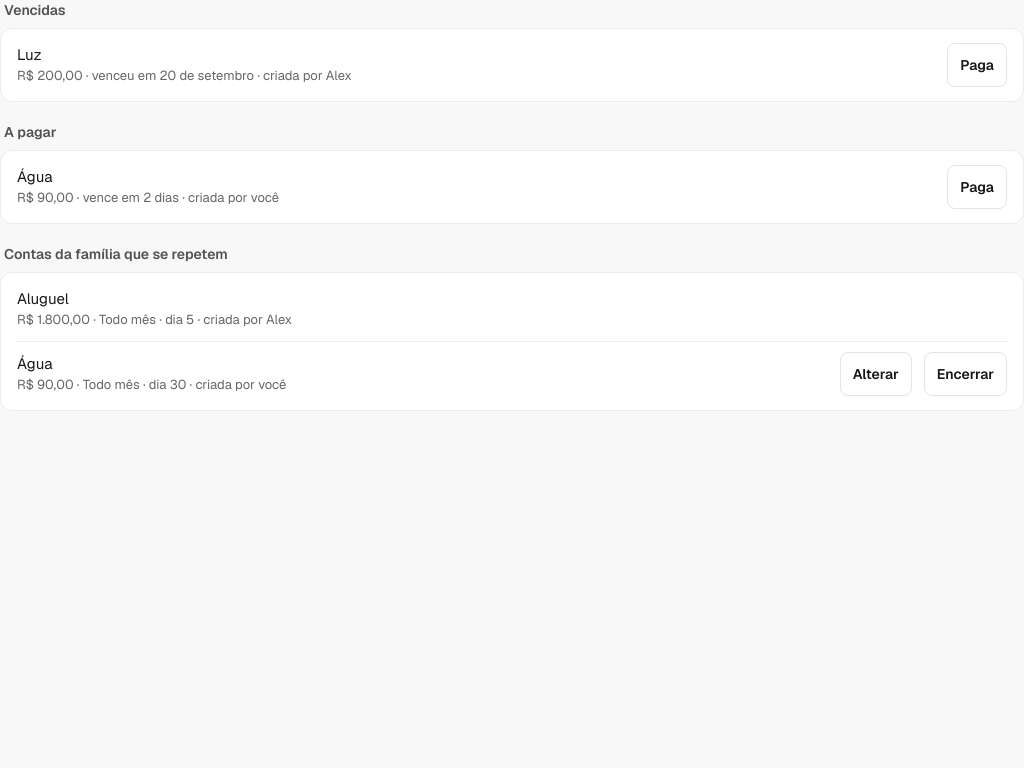
it: Alterar e Encerrar só nas contas que a pessoa pode gerir
This screenshot has width=1024, height=768.
Click the button with aria-label "Encerrar Água": x=965, y=374 [924, 352, 1007, 396]
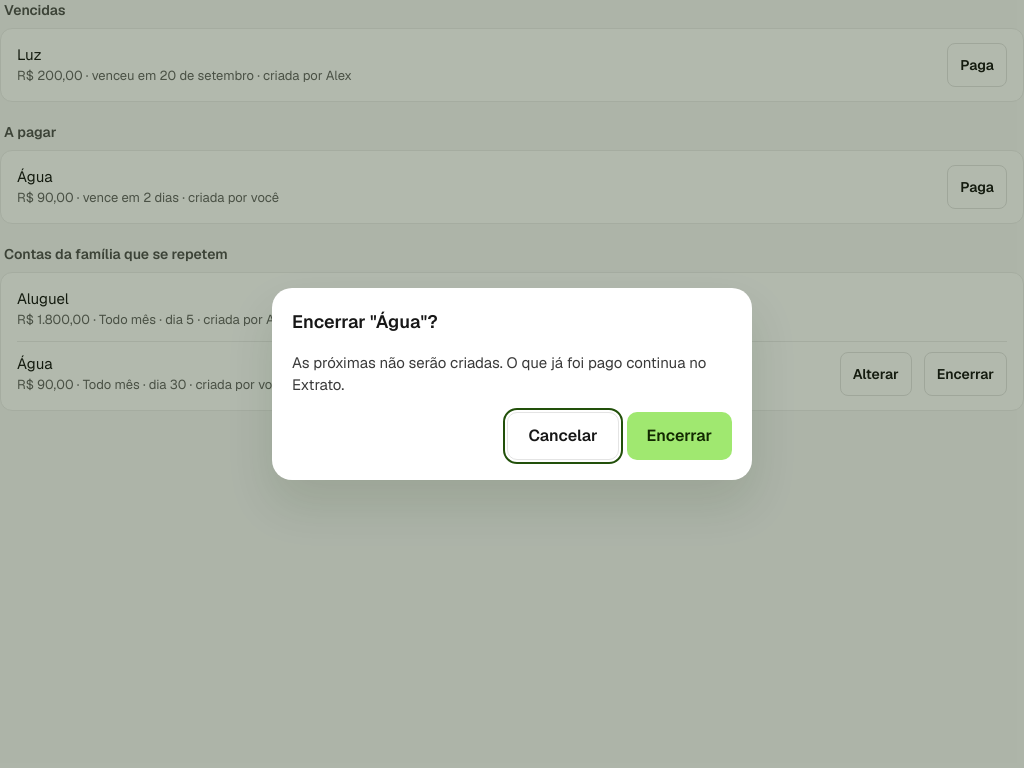
Now the button "Cancelar" is shown, box [507, 412, 619, 460]
